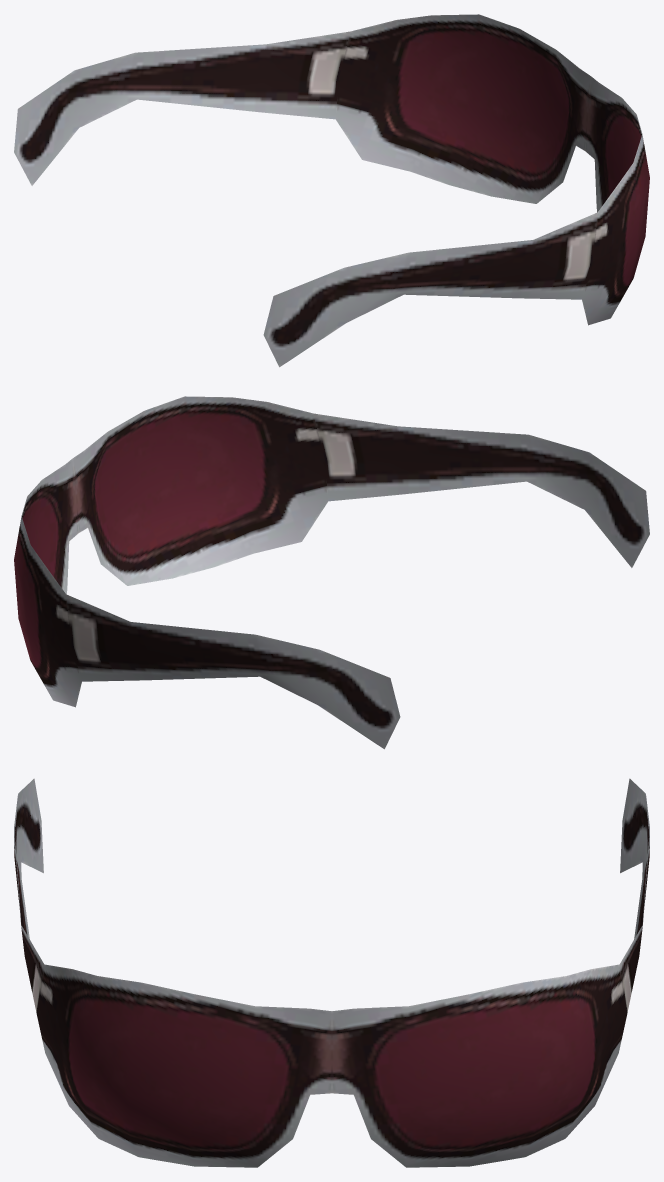
The model's file is acces_0660008.FBX.
The picture shows the model from 3 angles, top to bottom: view 1: azimuth 30°, elevation 25°; view 2: azimuth 150°, elevation 25°; view 3: azimuth 270°, elevation 25°; orthographic projection. The views are drawn at different scales.
Parts seen in each view (by area): view 1: acces_0660008; view 2: acces_0660008; view 3: acces_0660008.
Boxes of the visible parts, x1=… form: acces_0660008: x1=14, y1=14, x2=649, y2=367; acces_0660008: x1=14, y1=396, x2=649, y2=749; acces_0660008: x1=14, y1=778, x2=649, y2=1167.
Bounding box in the file's own units: 19.17 × 6.65 × 20.03.
